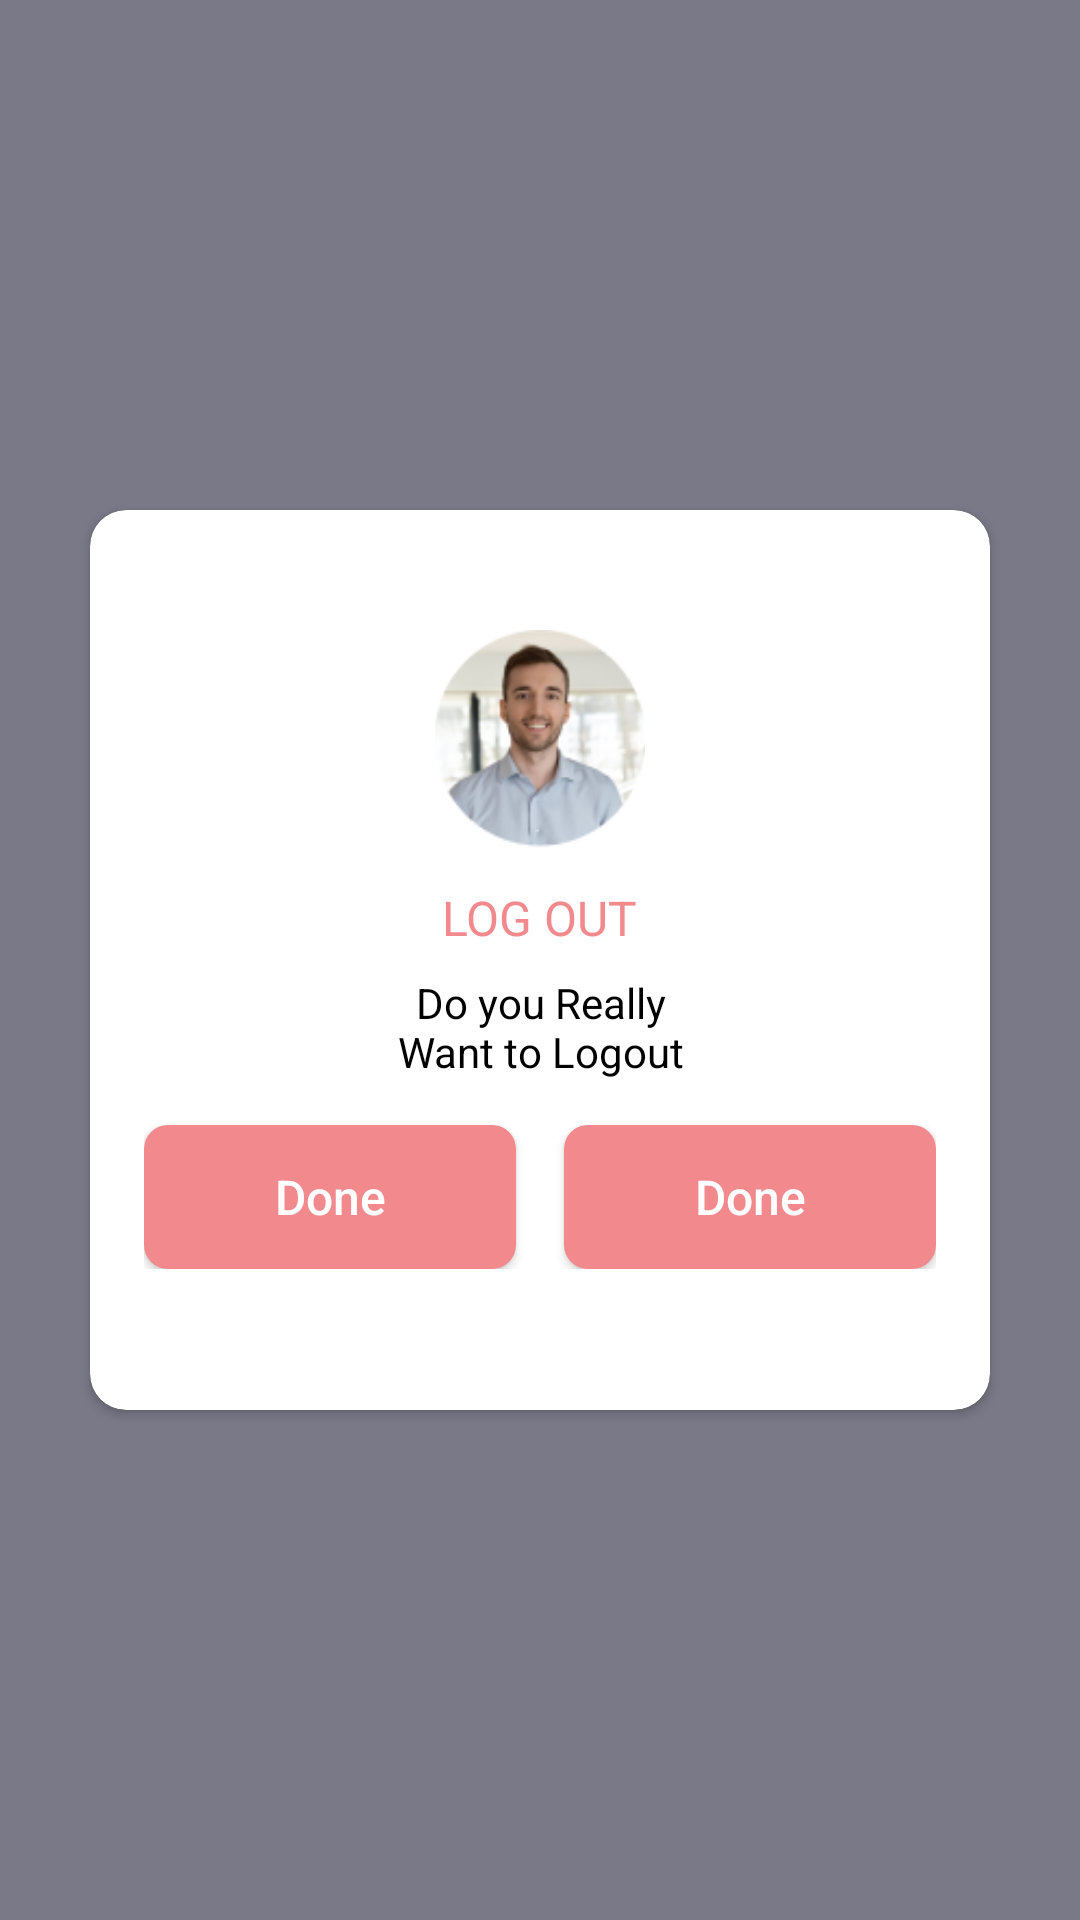

Where icons sit on this 1080 x 1920 app screen, as BBox(x1, y1, x2, y2):
dummyprofile: BBox(438, 630, 645, 846)
